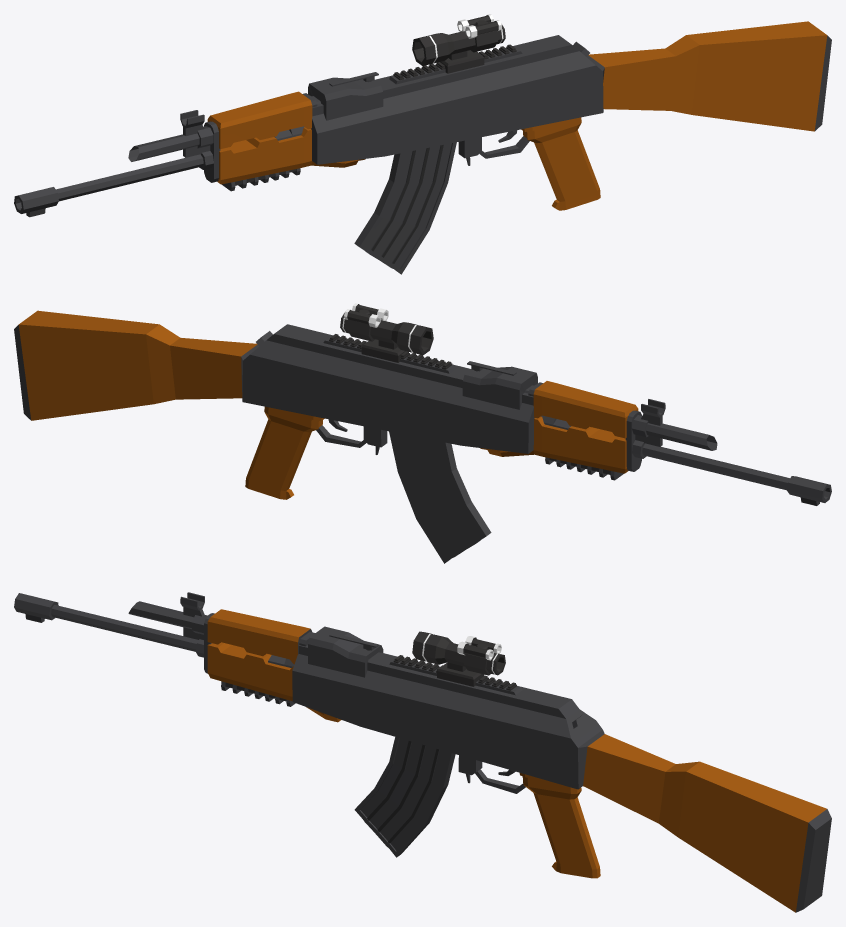
Rendered from weapon-sniper.glb.
The picture shows the model from 3 angles, top to bottom: view 1: azimuth 30°, elevation 25°; view 2: azimuth 150°, elevation 25°; view 3: azimuth 330°, elevation 25°; orthographic projection.
Parts seen in each view (by area): view 1: Object_12, Object_14, Object_15, Object_13; view 2: Object_12, Object_14, Object_15; view 3: Object_12, Object_14, Object_15, Object_13.
Part boxes in pixels (bbox=[...]): Object_12: bbox=[14, 35, 831, 274]; Object_14: bbox=[207, 21, 827, 210]; Object_15: bbox=[235, 15, 516, 185]; Object_13: bbox=[371, 145, 443, 263]; Object_12: bbox=[14, 324, 831, 563]; Object_14: bbox=[18, 310, 638, 499]; Object_15: bbox=[329, 304, 610, 474]; Object_12: bbox=[14, 592, 831, 912]; Object_14: bbox=[207, 609, 826, 912]; Object_15: bbox=[225, 631, 516, 701]; Object_13: bbox=[367, 741, 438, 843].
Size of the model in its own units: 1.2 by 0.3318 by 0.0646.
